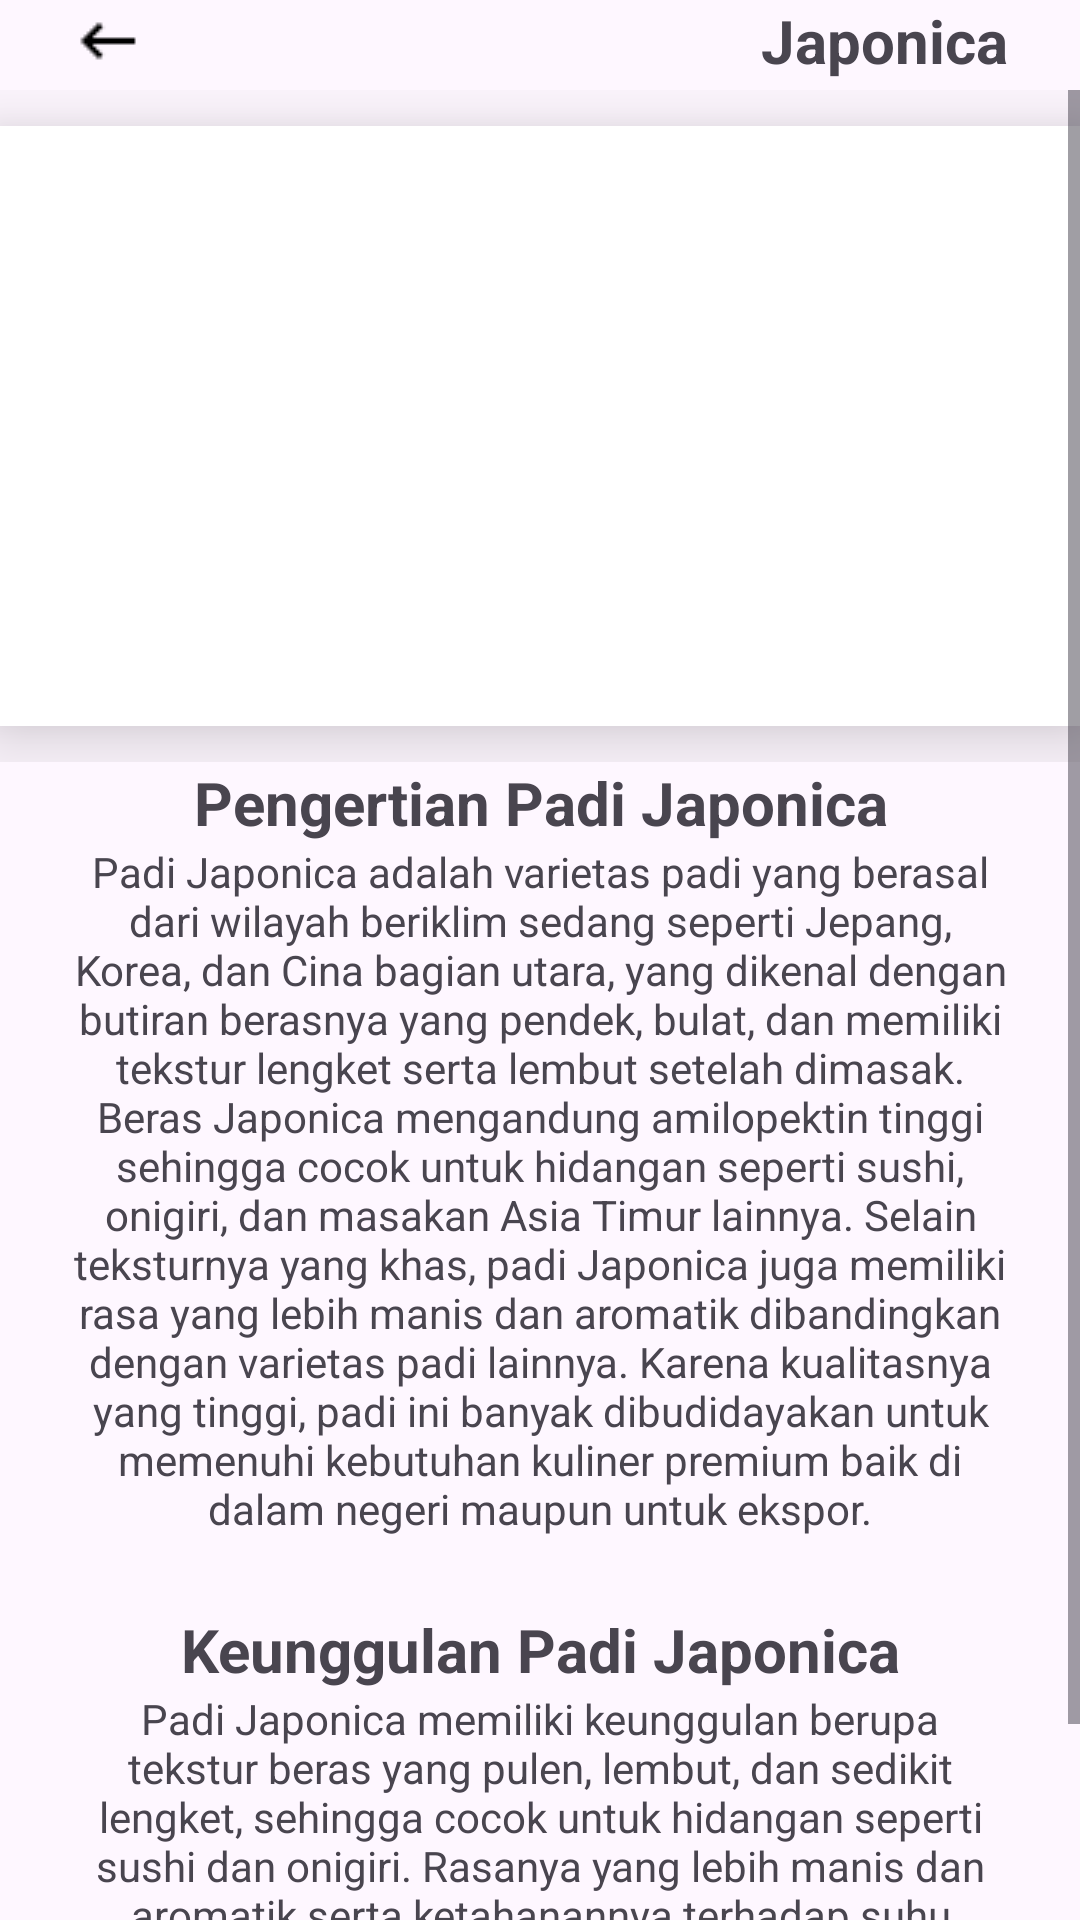

Where to tap for icons on this 1080×1920 app screen, as point (x, y):
keyboard backspace: point (108, 41)
